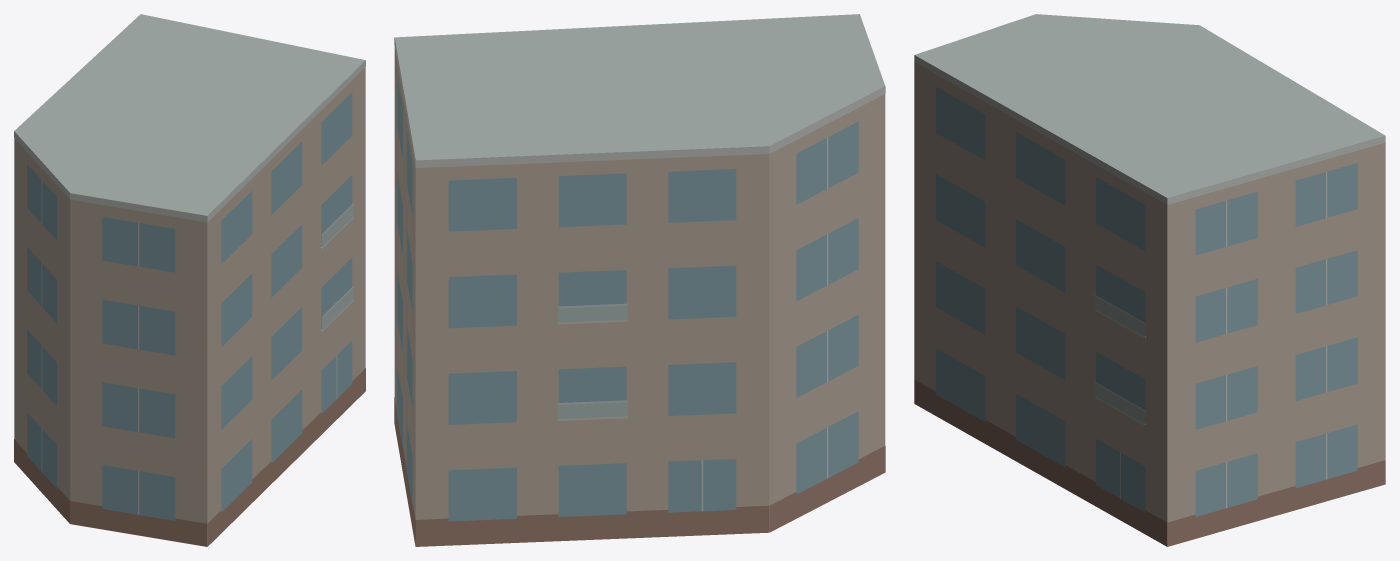
File: survey-upis-32804261.glb
The picture shows the model from 3 angles, left to right: view 1: azimuth 30°, elevation 25°; view 2: azimuth 150°, elevation 25°; view 3: azimuth 270°, elevation 25°; orthographic projection. The views are drawn at different scales.
Parts seen in each view (by area): view 1: survey-upis-32804261.tmp; view 2: survey-upis-32804261.tmp; view 3: survey-upis-32804261.tmp.
Part boxes in pixels (x1,y1,x2,y2): survey-upis-32804261.tmp: [14, 14, 365, 546]; survey-upis-32804261.tmp: [394, 14, 885, 546]; survey-upis-32804261.tmp: [914, 14, 1385, 546].
Bounding box in the file's own units: 13.82 × 12.2 × 14.95.
